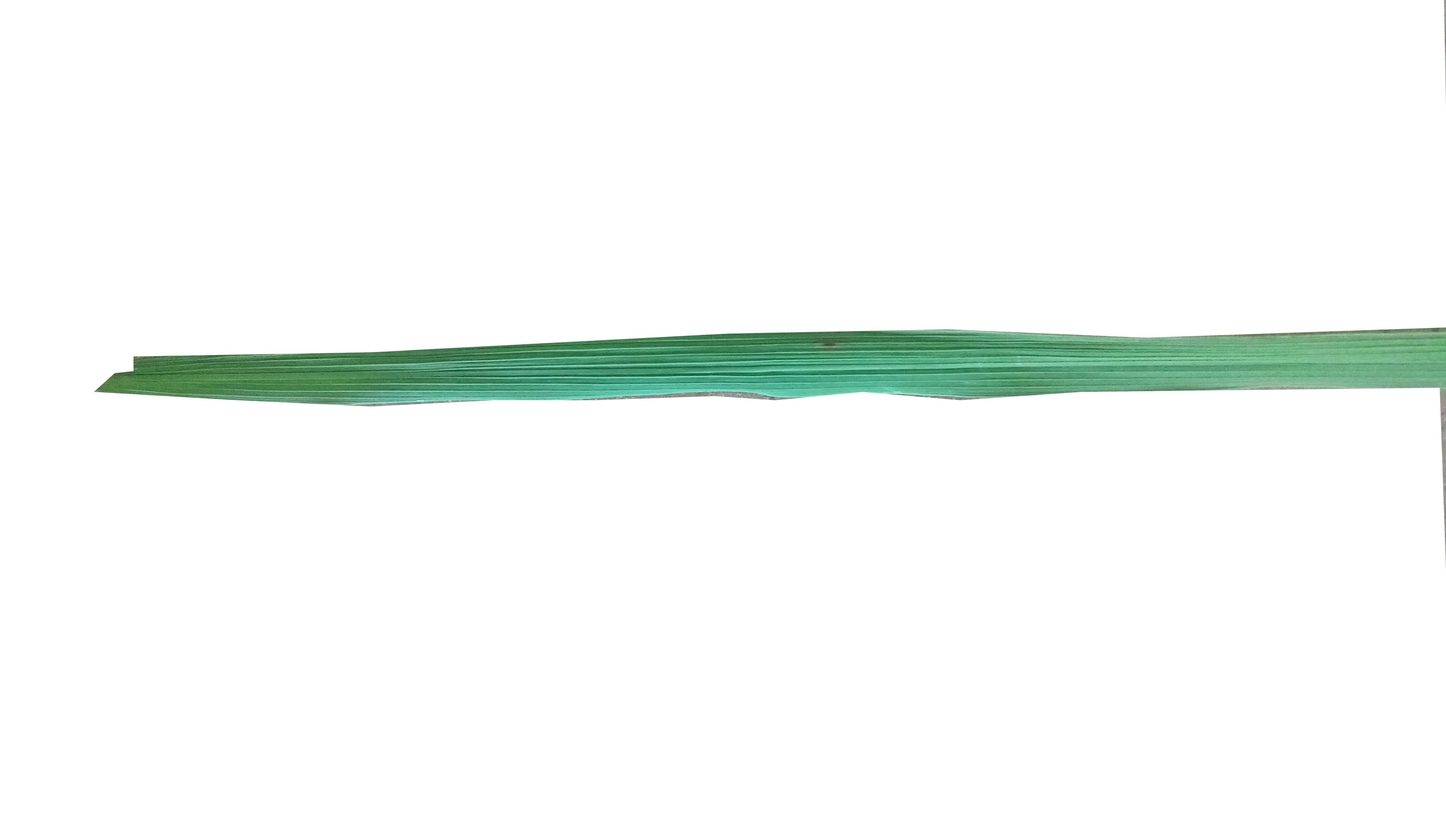Brown spot: (807, 336, 847, 362)
